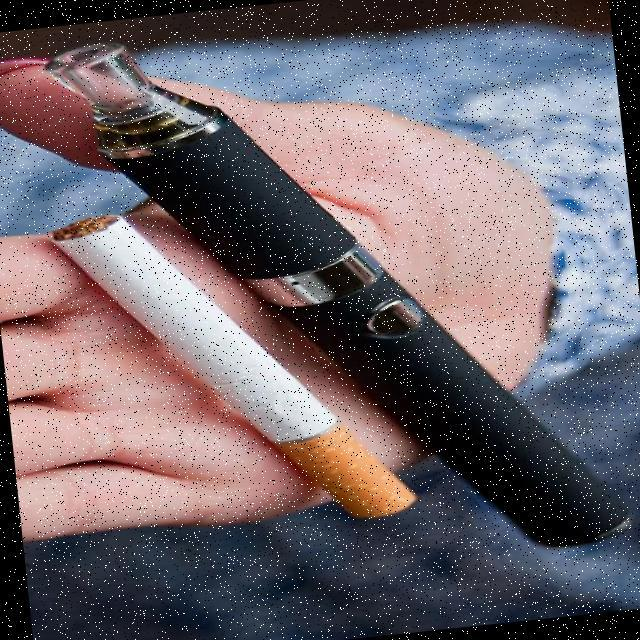cigarette: (24, 168, 440, 574)
